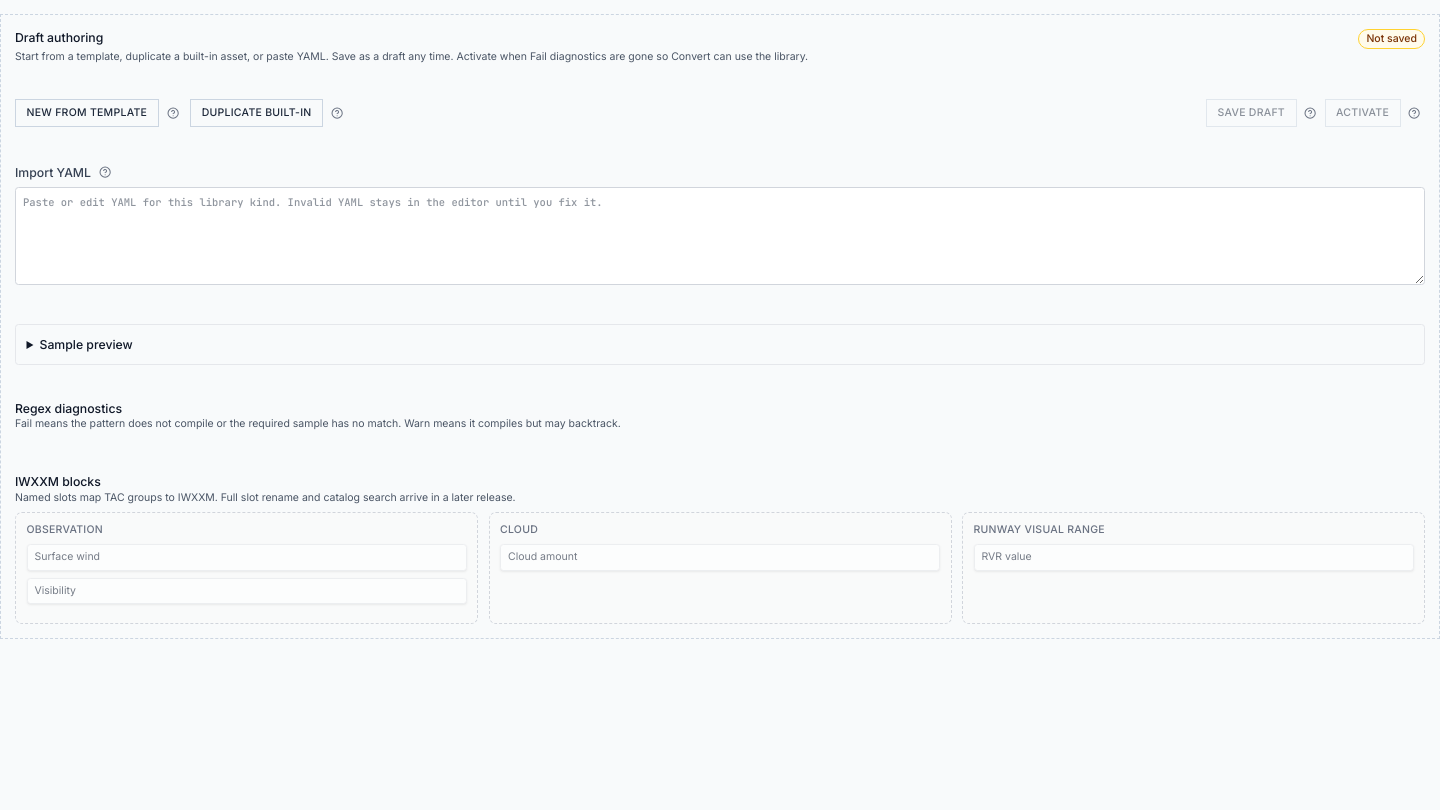
Test: LibraryDraftShell › surfaces a generic persist error for non-Error rejections
What coordinates should you click on to do the following:
click the button with test id "library-draft-new-template-dissemination"
I would click on:
 (87, 113)
Its box is [15,99,159,127].
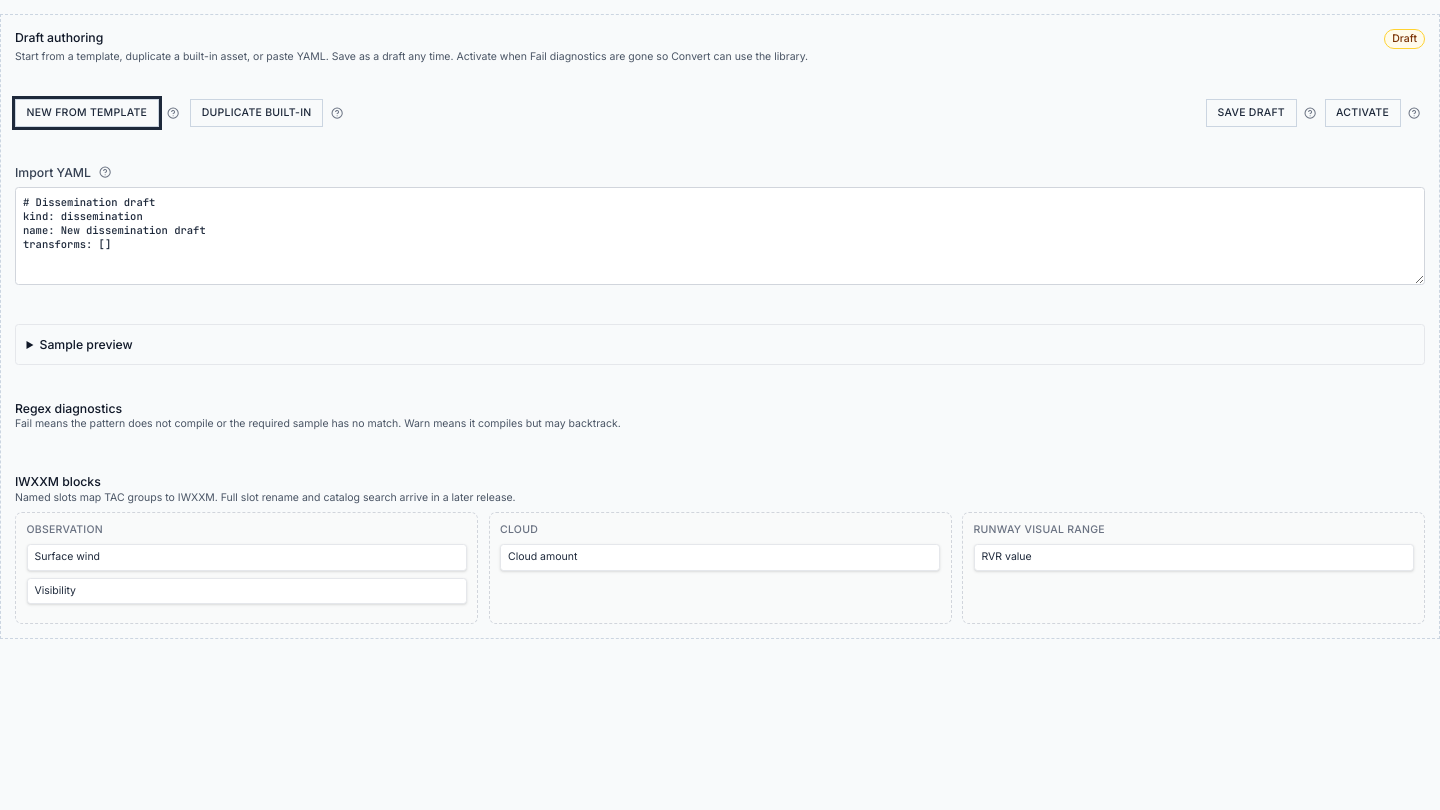
What coordinates should you click on to do the following:
click the button with test id "library-draft-save-dissemination"
I would click on:
 (1251, 113)
Its box is [1206,99,1296,127].
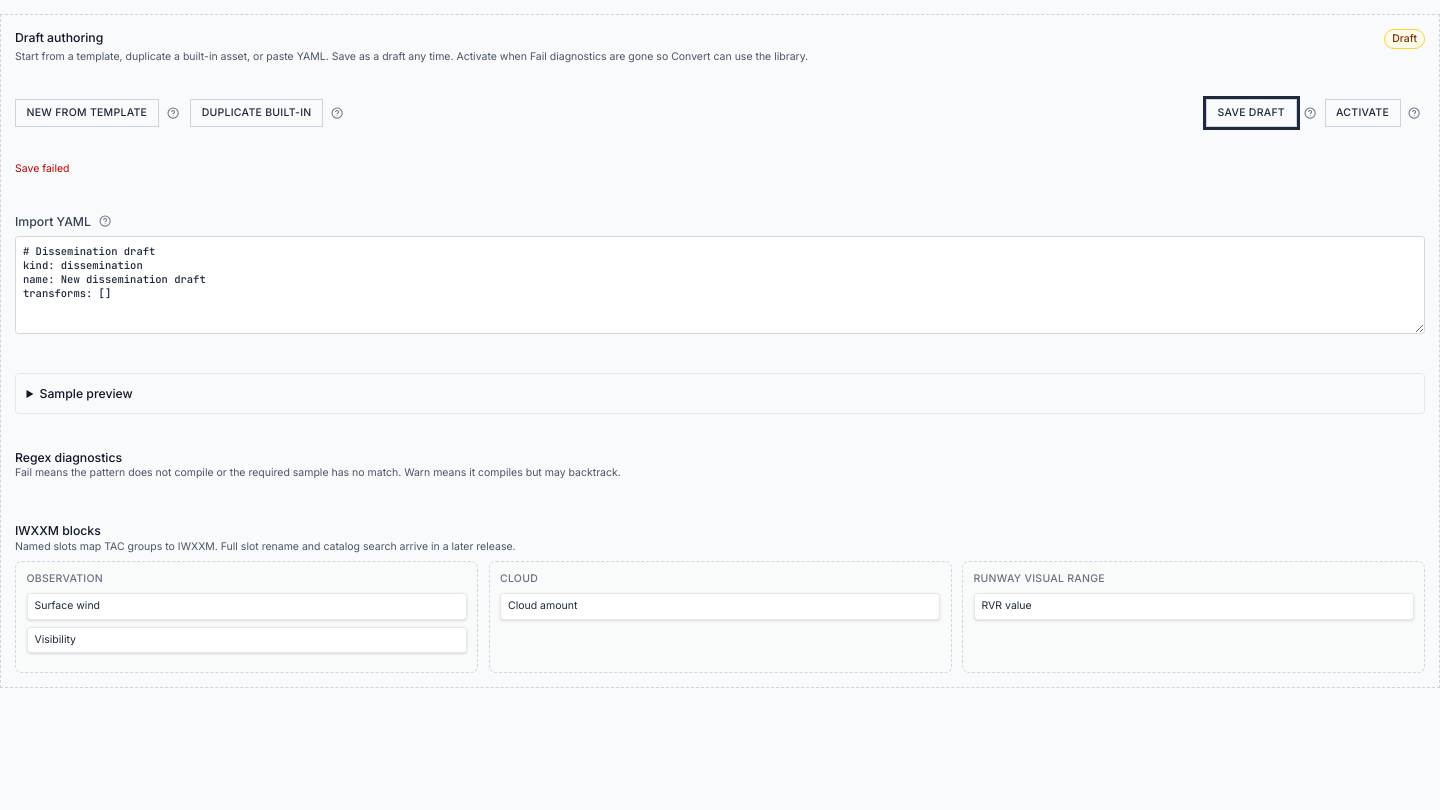
Expected: the text "Save failed" is shown, [15,162,70,175]
